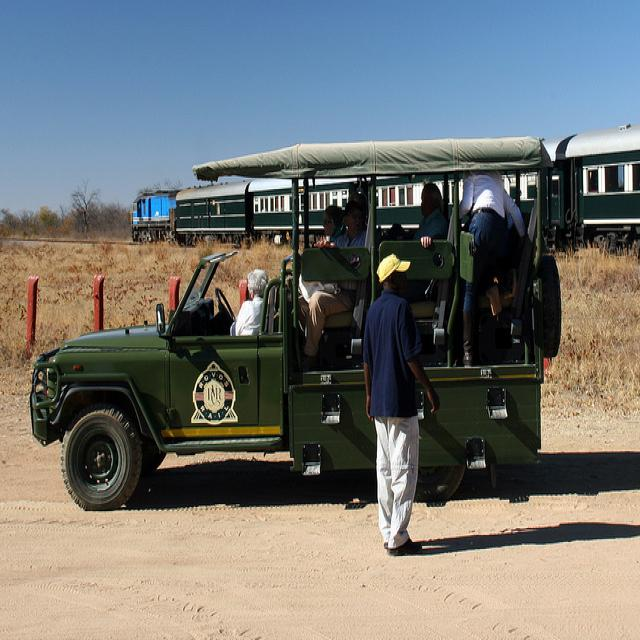Vehicle: (33, 138, 559, 510)
